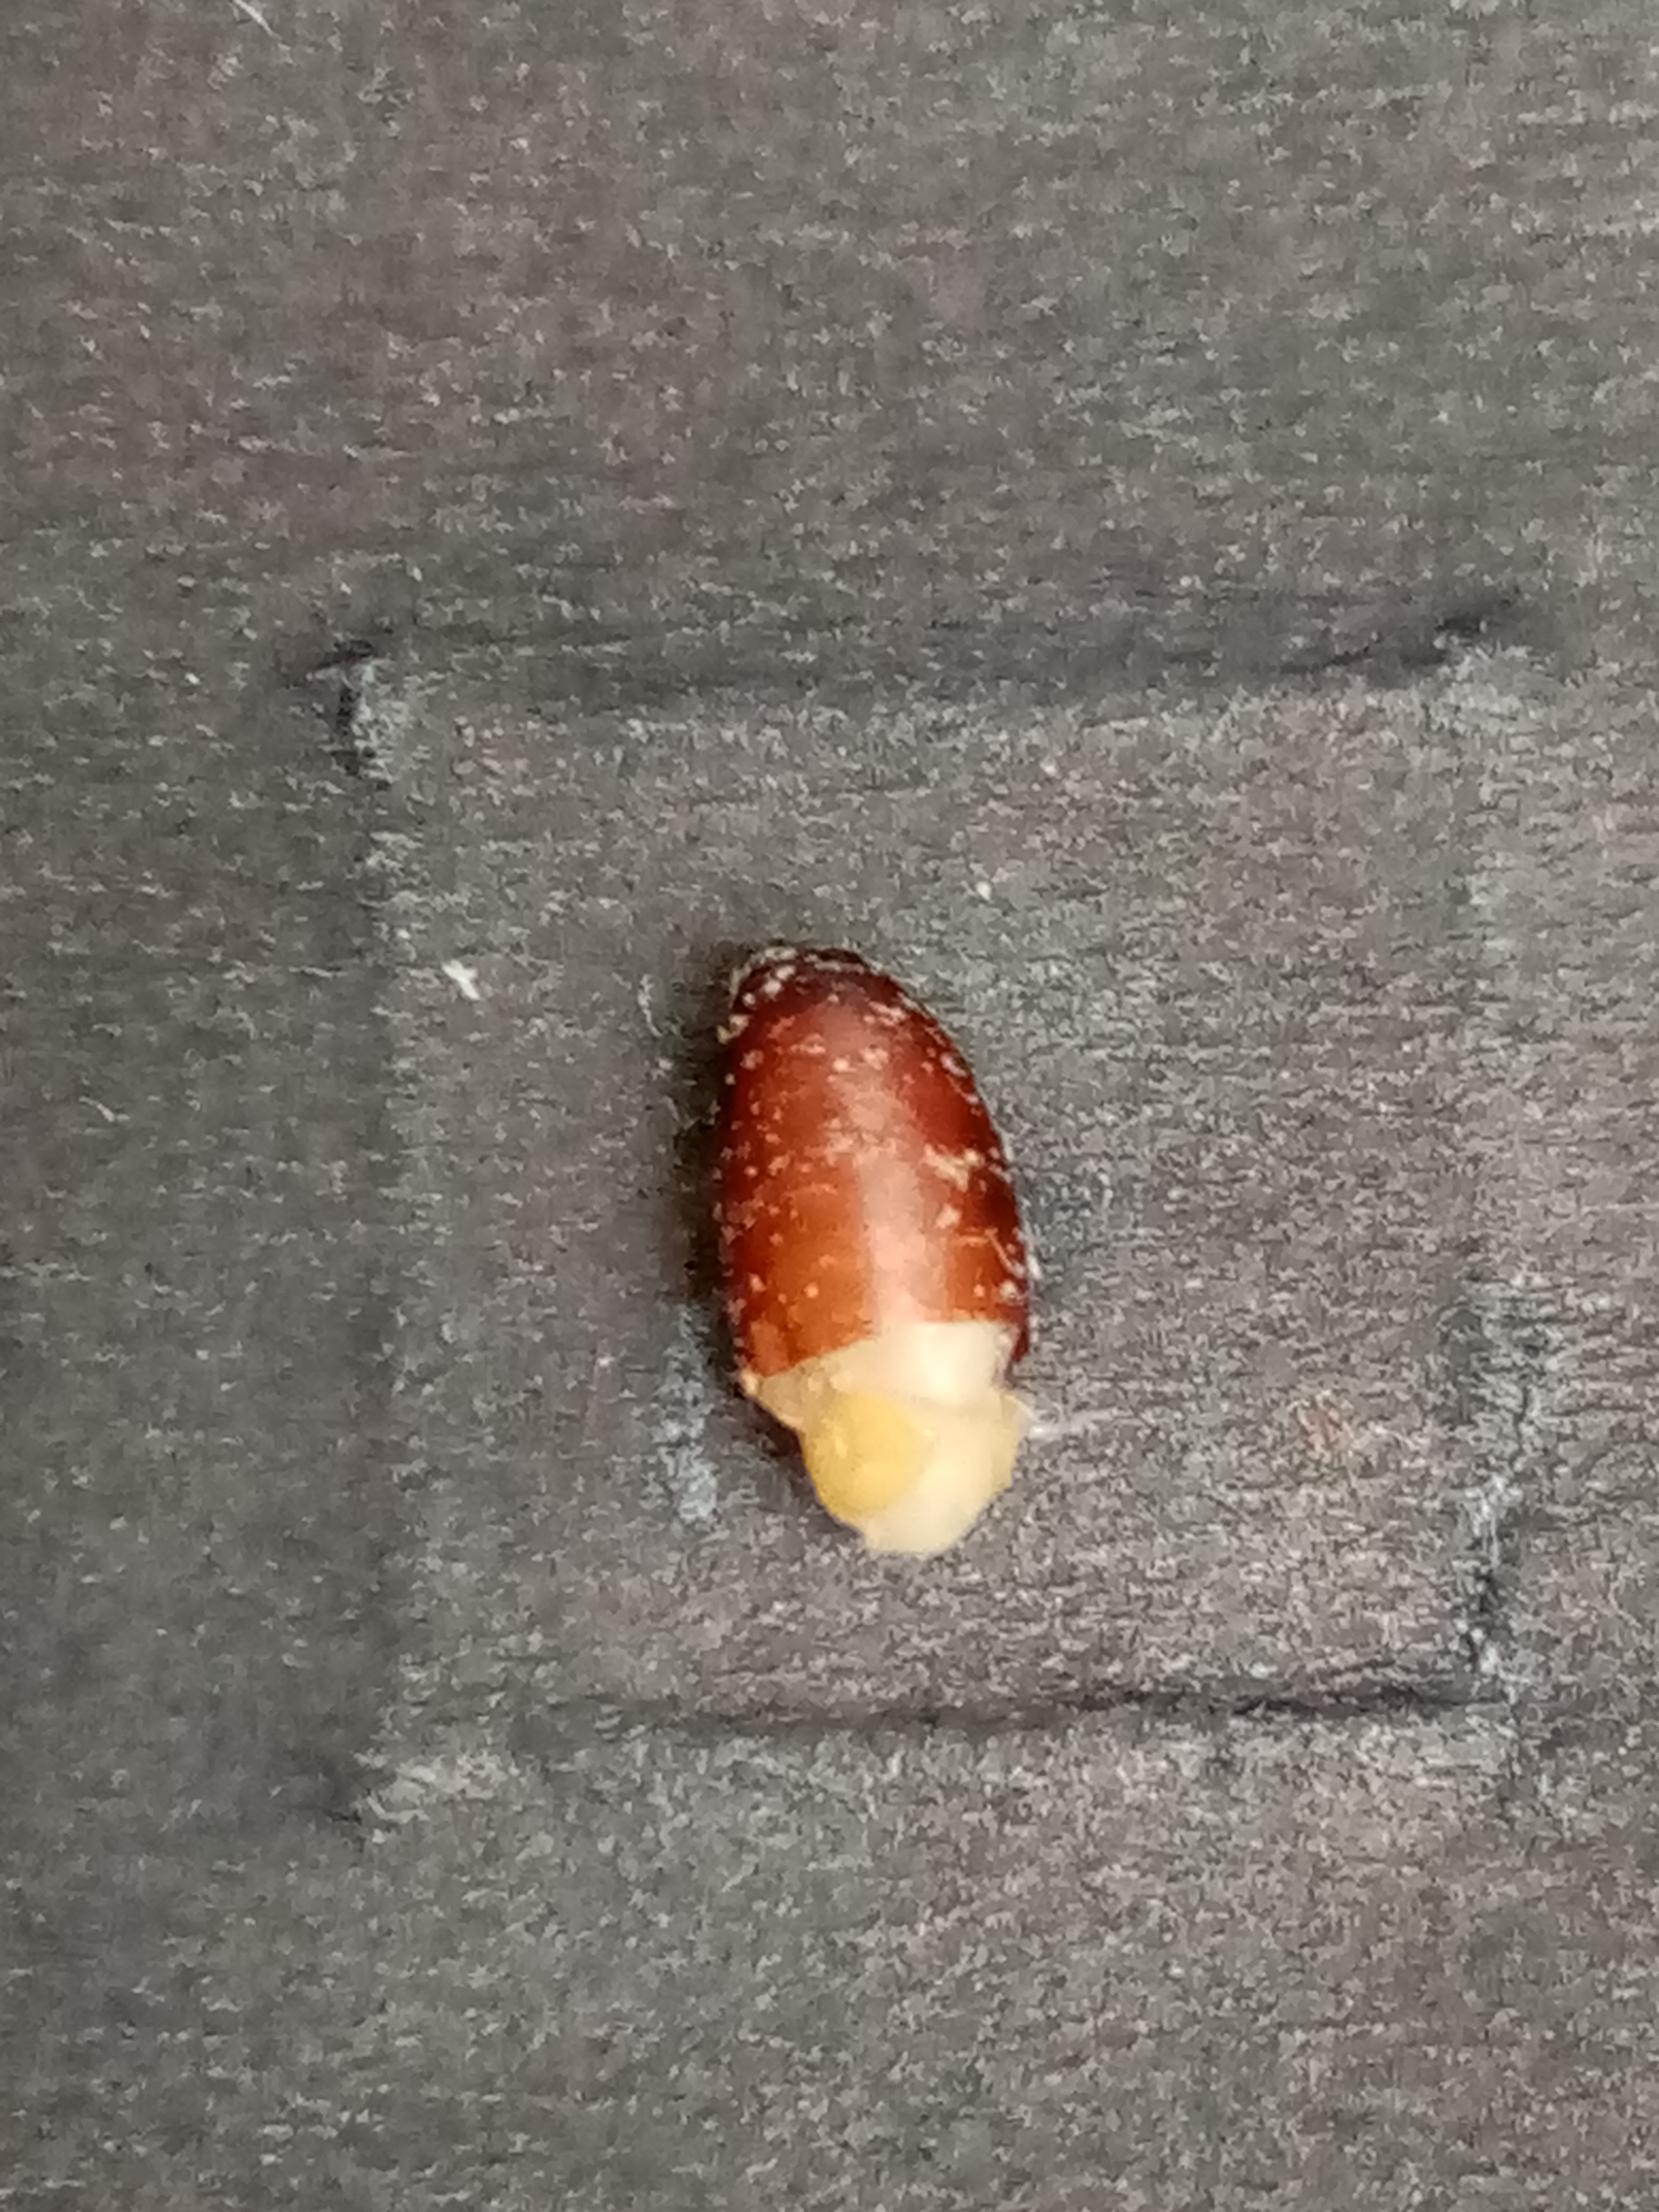pupa: (775, 1374, 1023, 1561)
